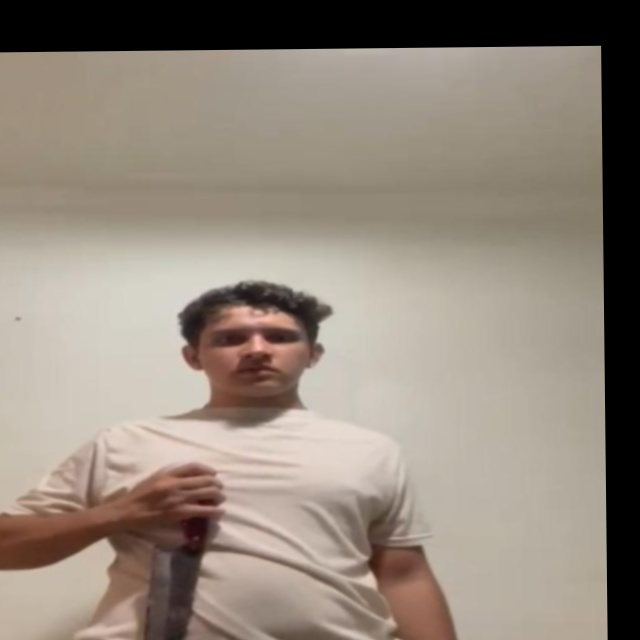Sharp-Object: (133, 549, 203, 640)
